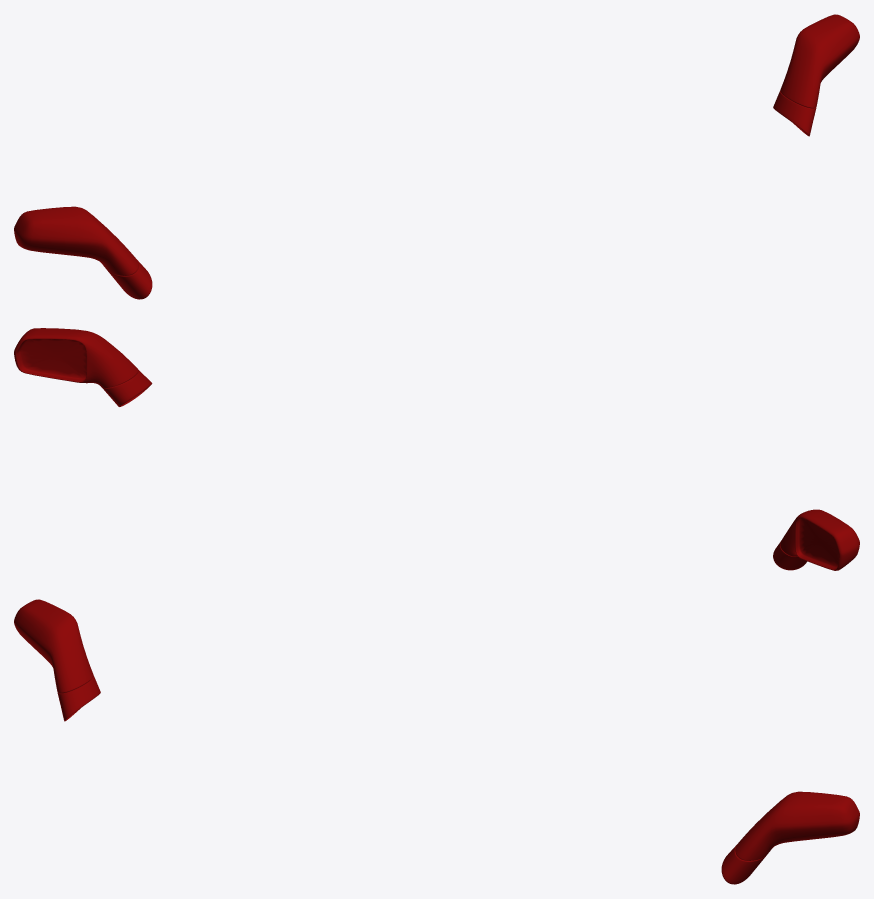
File: c7mirrors.glb
3 views of the same model, one above another, from view 1: azimuth 30°, elevation 25°; view 2: azimuth 150°, elevation 25°; view 3: azimuth 330°, elevation 25° (orthographic).
Visible parts, largest first — view 1: Mirror_Crysal_Red_0; view 2: Mirror_Crysal_Red_0; view 3: Mirror_Crysal_Red_0.
Part boxes in pixels (<box>): Mirror_Crysal_Red_0: <box>14,14,859,299</box>; Mirror_Crysal_Red_0: <box>14,328,859,570</box>; Mirror_Crysal_Red_0: <box>14,599,859,884</box>.
Bounding box in the file's own units: 2.14 × 0.1888 × 0.2245.
